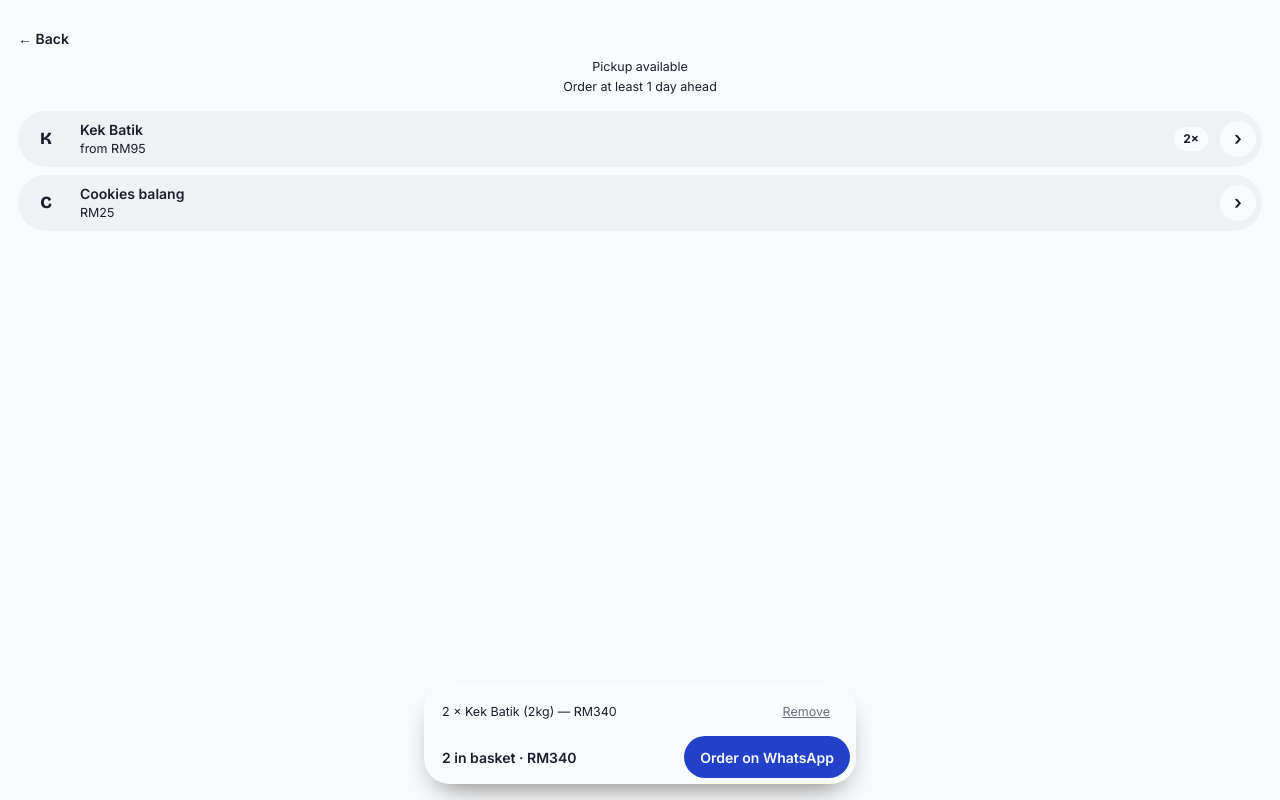
Test case: ShopView › removes a basket line
Click the button "Remove": click(806, 712) [775, 696, 838, 728]
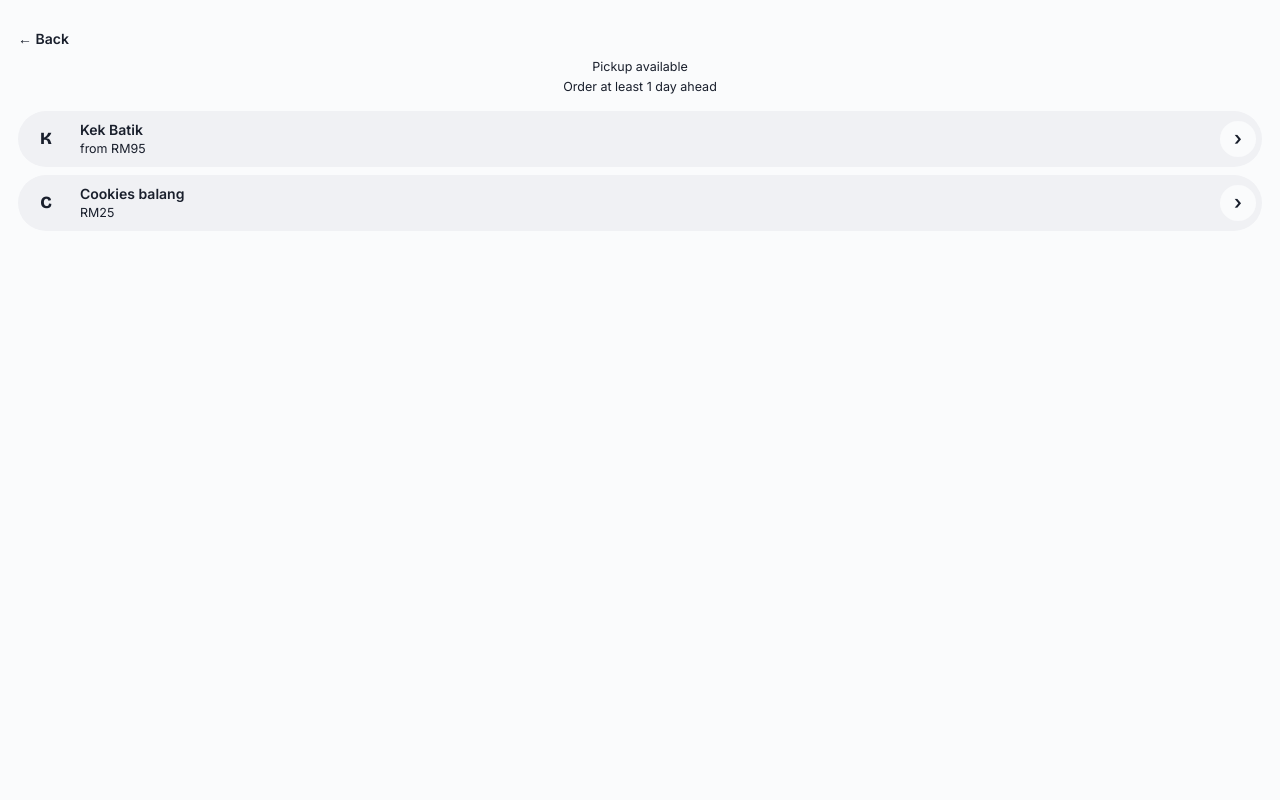
Now the text "in basket" is gone
